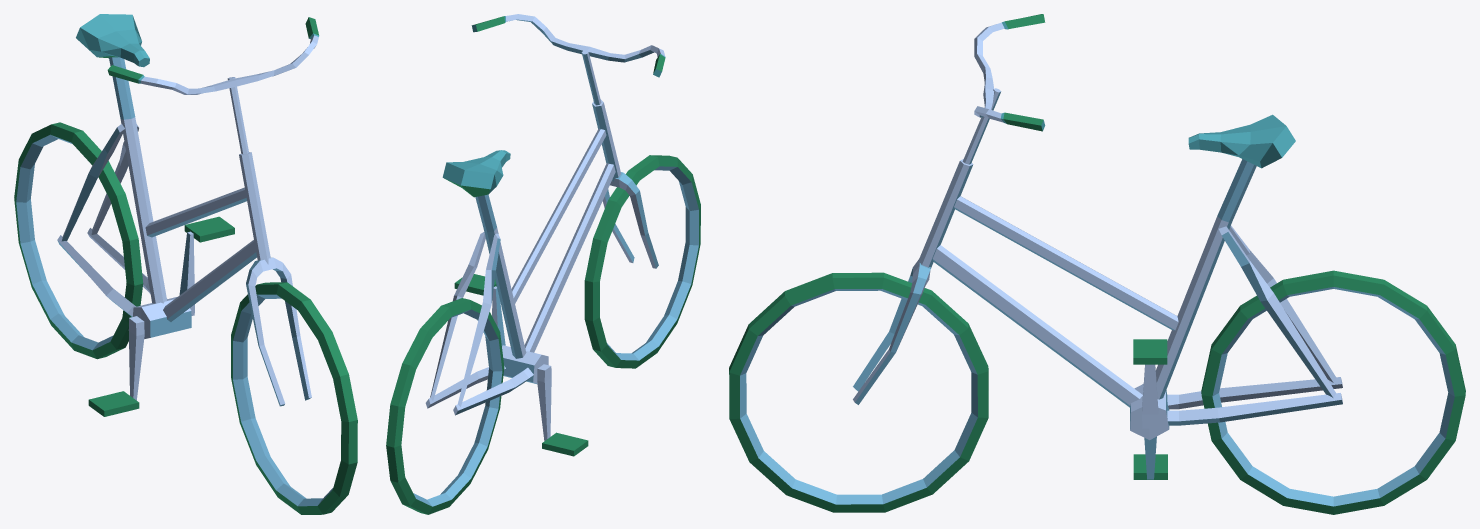
Rendered from bicycle_low-poly_minimalistic.glb.
The picture shows the model from 3 angles, left to right: view 1: azimuth 30°, elevation 25°; view 2: azimuth 150°, elevation 25°; view 3: azimuth 270°, elevation 25°; orthographic projection. The views are drawn at different scales.
Visible parts, largest first — view 1: bike_body, bike_tyre1, bike_tyre2, bike_handleBar_dummyProp_0, bike_fork, bike_pedal_dummyProp_0, bike_pedalFootR, bike_pedalFootL; view 2: bike_body, bike_tyre1, bike_tyre2, bike_handleBar_dummyProp_0, bike_fork, bike_pedal_dummyProp_0, bike_pedalFootR, bike_pedalFootL; view 3: bike_body, bike_tyre1, bike_tyre2, bike_handleBar_dummyProp_0, bike_fork, bike_pedal_dummyProp_0, bike_pedalFootL.
Part boxes in pixels (x1=…): bike_body: x1=57, y1=14, x2=270, y2=338; bike_tyre1: x1=231, y1=282, x2=357, y2=514; bike_tyre2: x1=14, y1=122, x2=143, y2=359; bike_handleBar_dummyProp_0: x1=107, y1=17, x2=319, y2=154; bike_fork: x1=246, y1=257, x2=311, y2=406; bike_pedal_dummyProp_0: x1=128, y1=231, x2=194, y2=400; bike_pedalFootR: x1=88, y1=391, x2=139, y2=416; bike_pedalFootL: x1=184, y1=216, x2=234, y2=242; bike_body: x1=425, y1=99, x2=620, y2=415; bike_tyre1: x1=584, y1=155, x2=700, y2=368; bike_tyre2: x1=386, y1=298, x2=504, y2=514; bike_handleBar_dummyProp_0: x1=471, y1=14, x2=665, y2=105; bike_fork: x1=602, y1=172, x2=658, y2=268; bike_pedal_dummyProp_0: x1=492, y1=286, x2=551, y2=440; bike_pedalFootR: x1=542, y1=432, x2=588, y2=456; bike_pedalFootL: x1=454, y1=274, x2=496, y2=295; bike_body: x1=916, y1=114, x2=1342, y2=440; bike_tyre1: x1=729, y1=272, x2=988, y2=512; bike_tyre2: x1=1201, y1=270, x2=1465, y2=514; bike_handleBar_dummyProp_0: x1=962, y1=14, x2=1045, y2=164; bike_fork: x1=853, y1=259, x2=930, y2=404; bike_pedal_dummyProp_0: x1=1142, y1=364, x2=1158, y2=479; bike_pedalFootL: x1=1133, y1=339, x2=1167, y2=364.
Bounding box in the file's own units: 0.583 × 1.09 × 1.63.
Materials: 1 (1 with a texture image).
